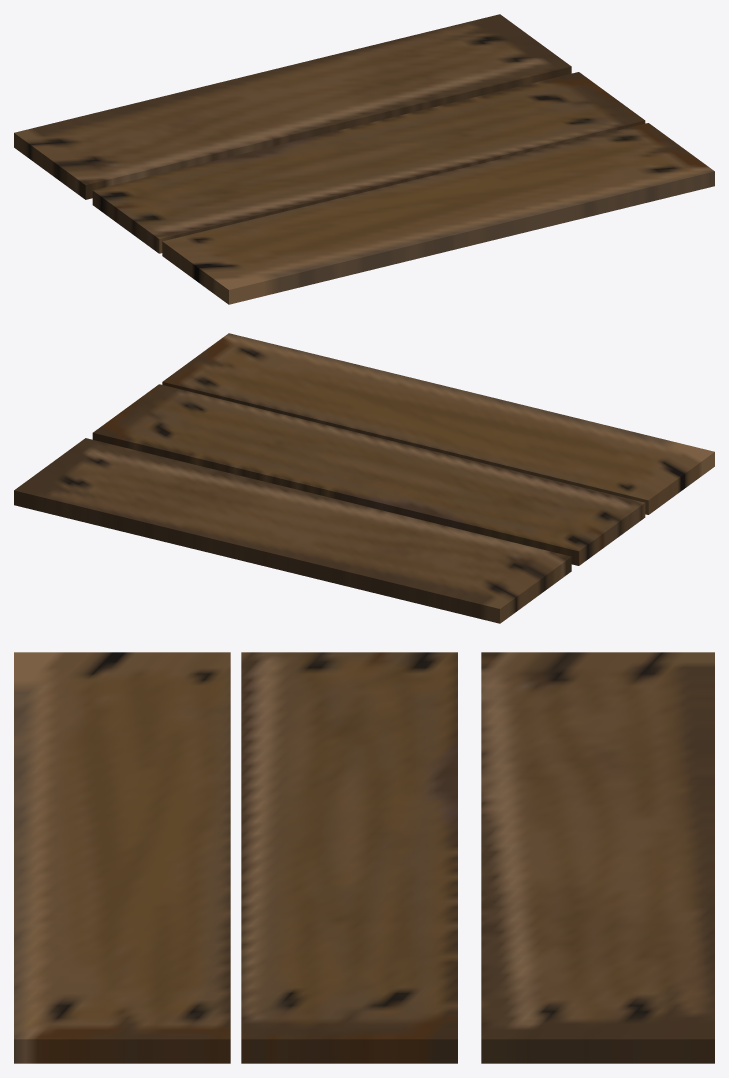
File: pz_barricade_3.obj
3 views of the same model, one above another, from view 1: azimuth 30°, elevation 25°; view 2: azimuth 150°, elevation 25°; view 3: azimuth 270°, elevation 25° (orthographic). The views are drawn at different scales.
Size of the model in its own units: 1 by 0.029 by 0.7655.
Materials: 1 (1 with a texture image).
